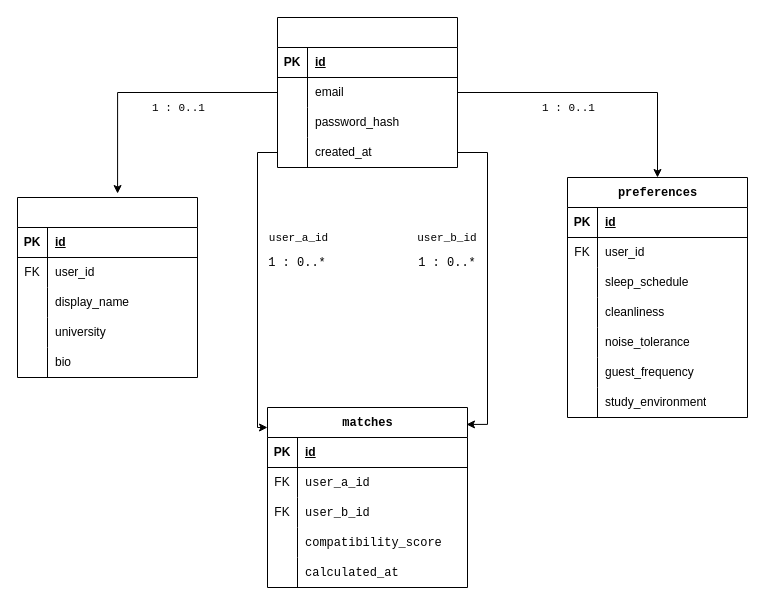
This 765x605 diagram has some shape labels left out. Here are the shapes that lost their labels. From the top down, the box of each, then its label:
(276, 16, 458, 168): users
(16, 196, 198, 378): profiles
